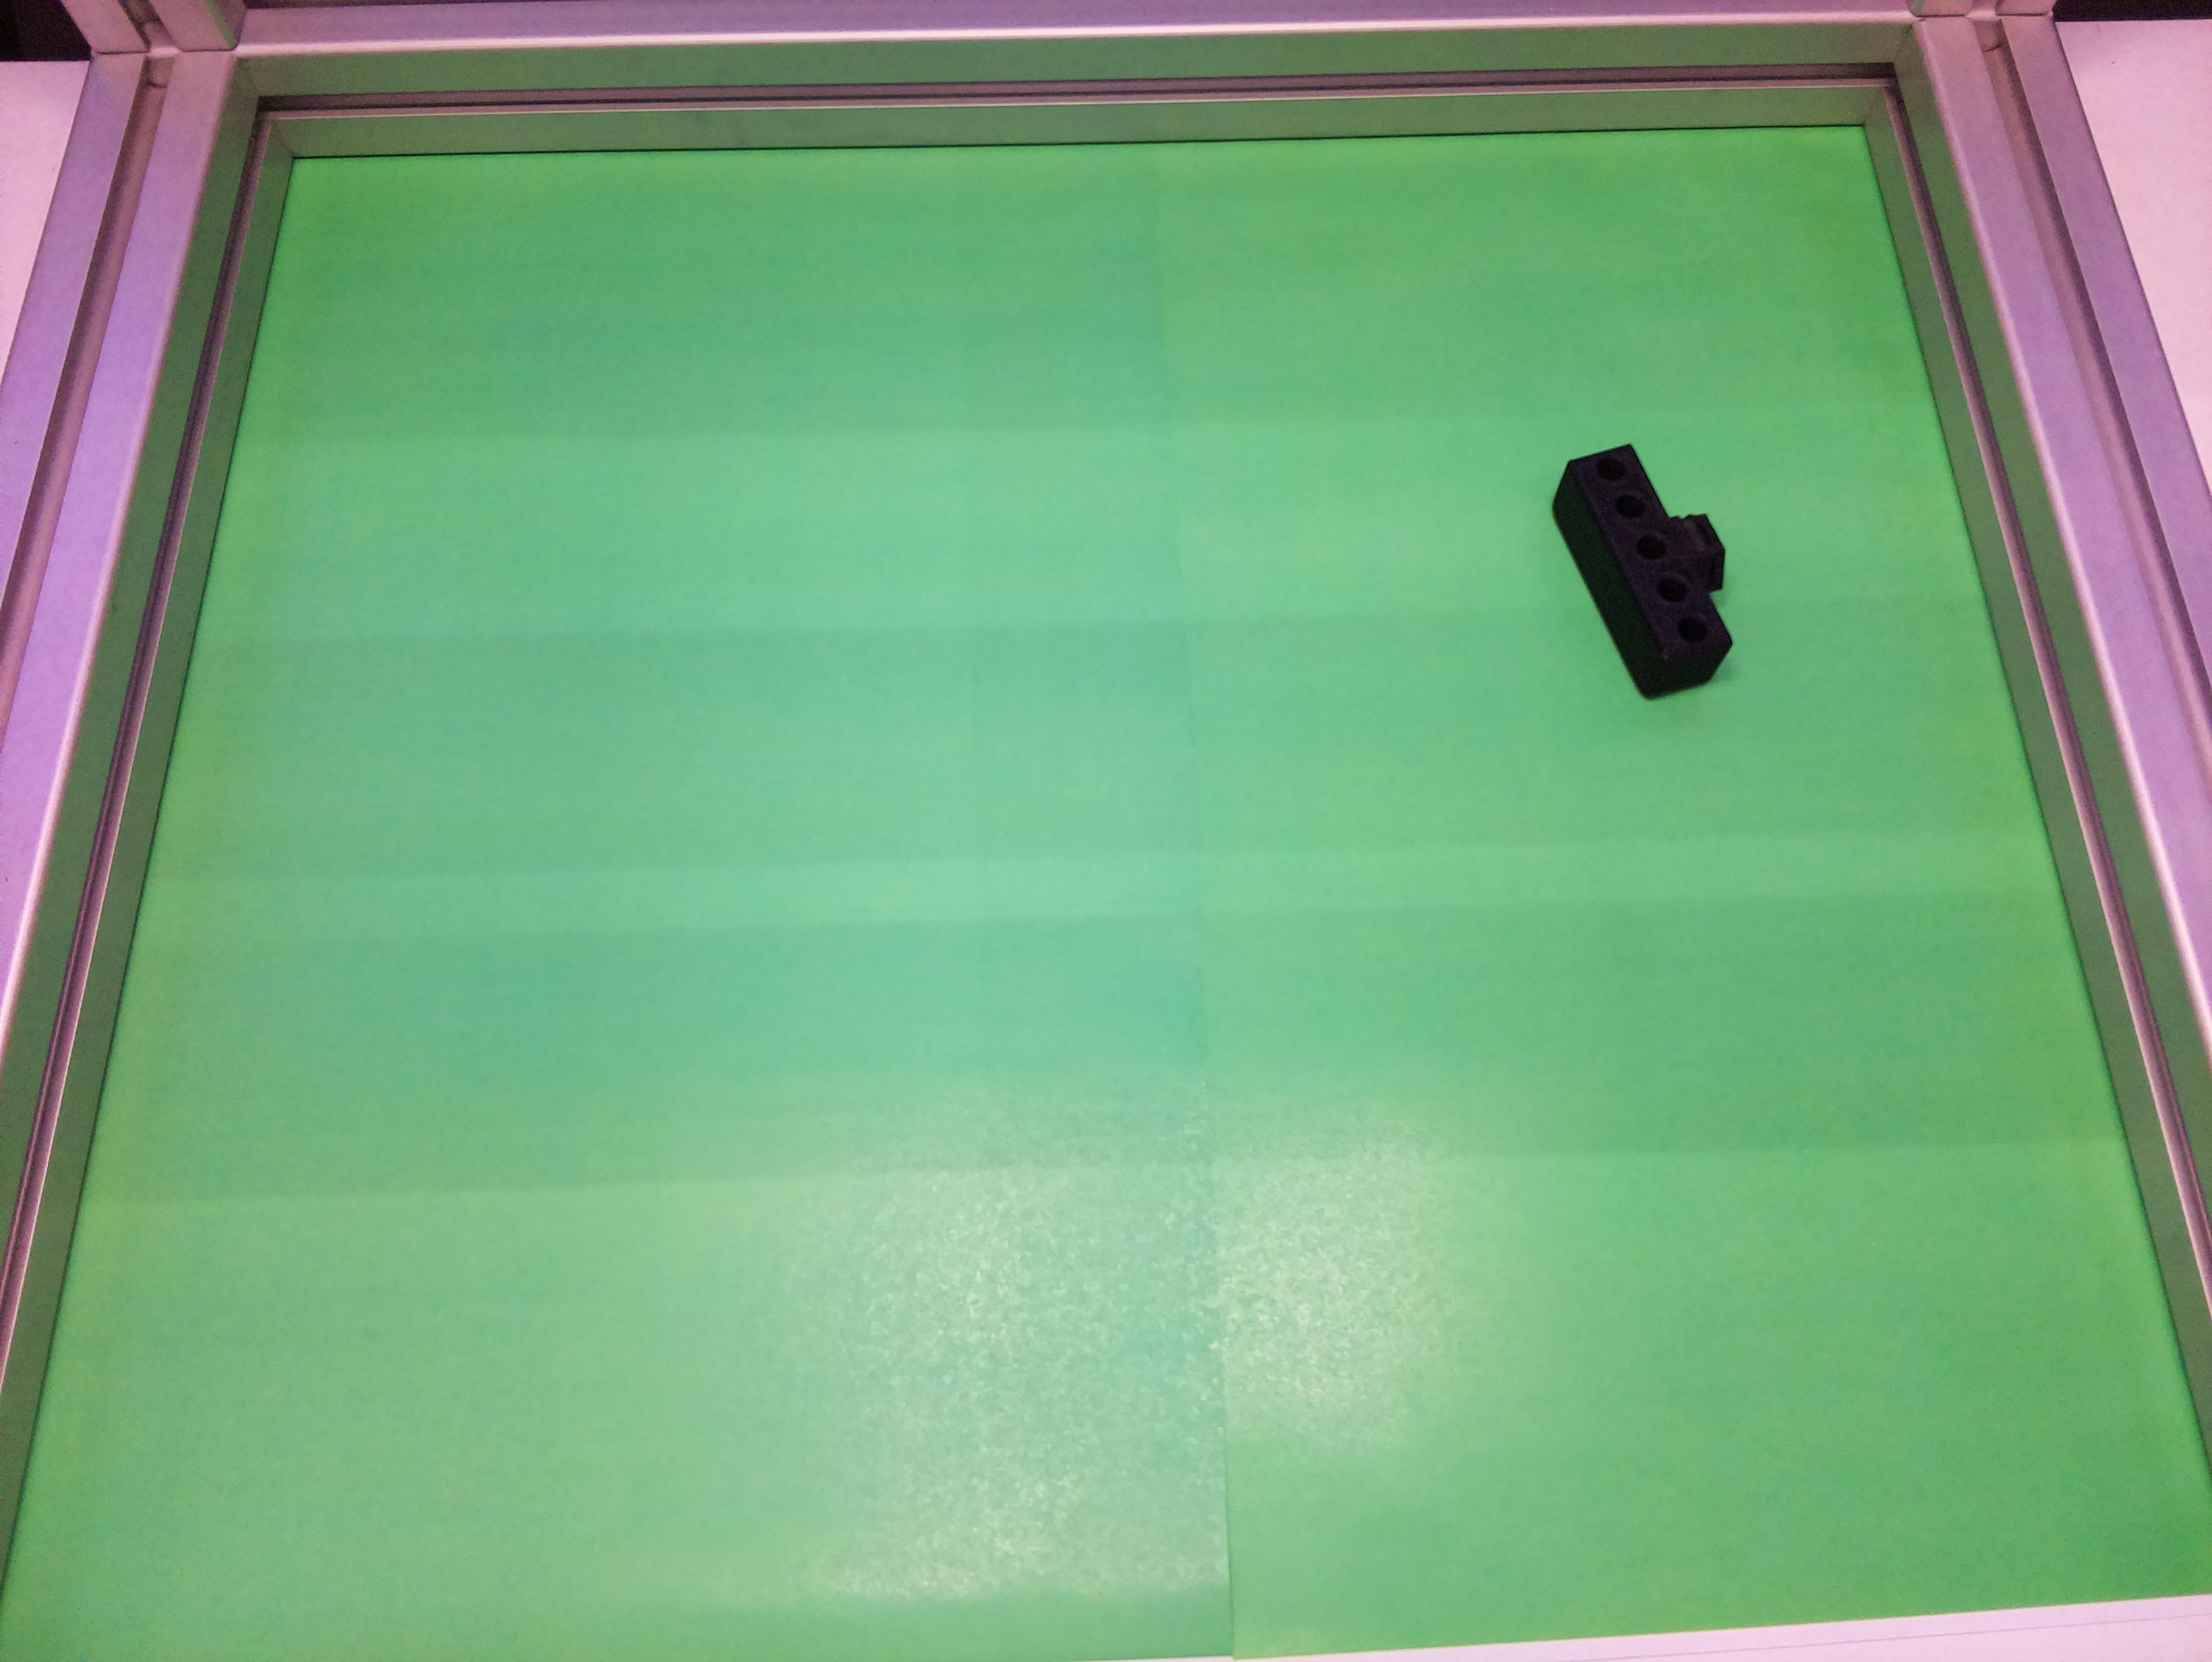bit_holder: (1533, 417, 1774, 711)
